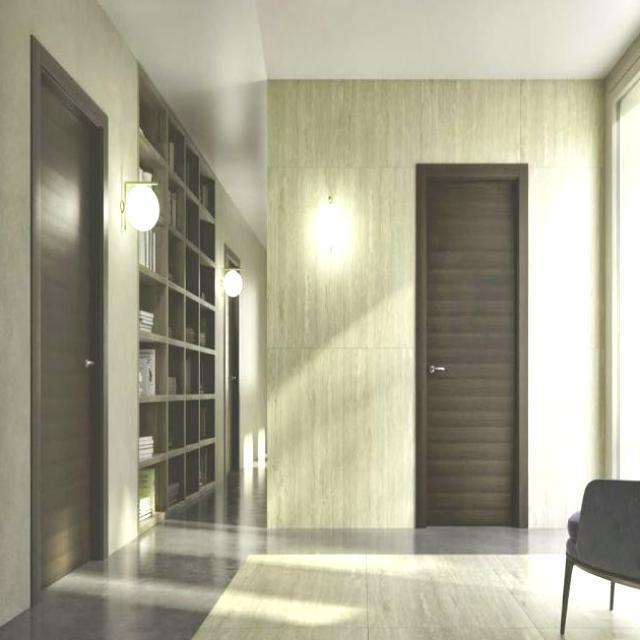door: (20, 26, 119, 600), (415, 163, 526, 528)
